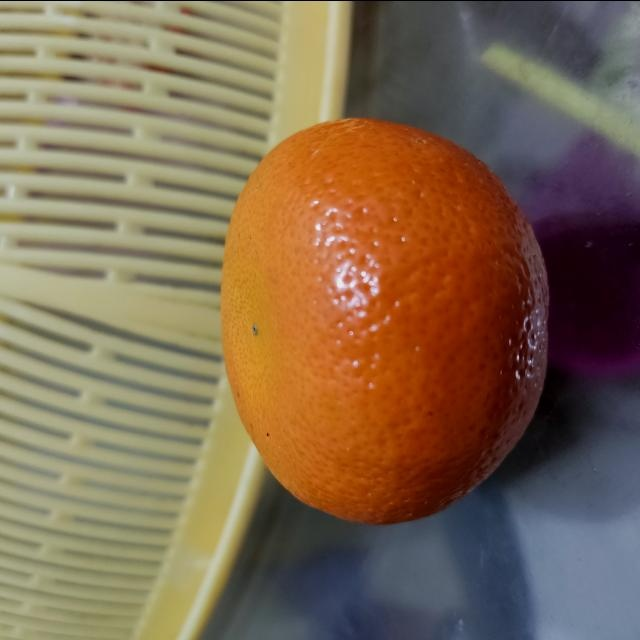agrume: (218, 116, 546, 528)
